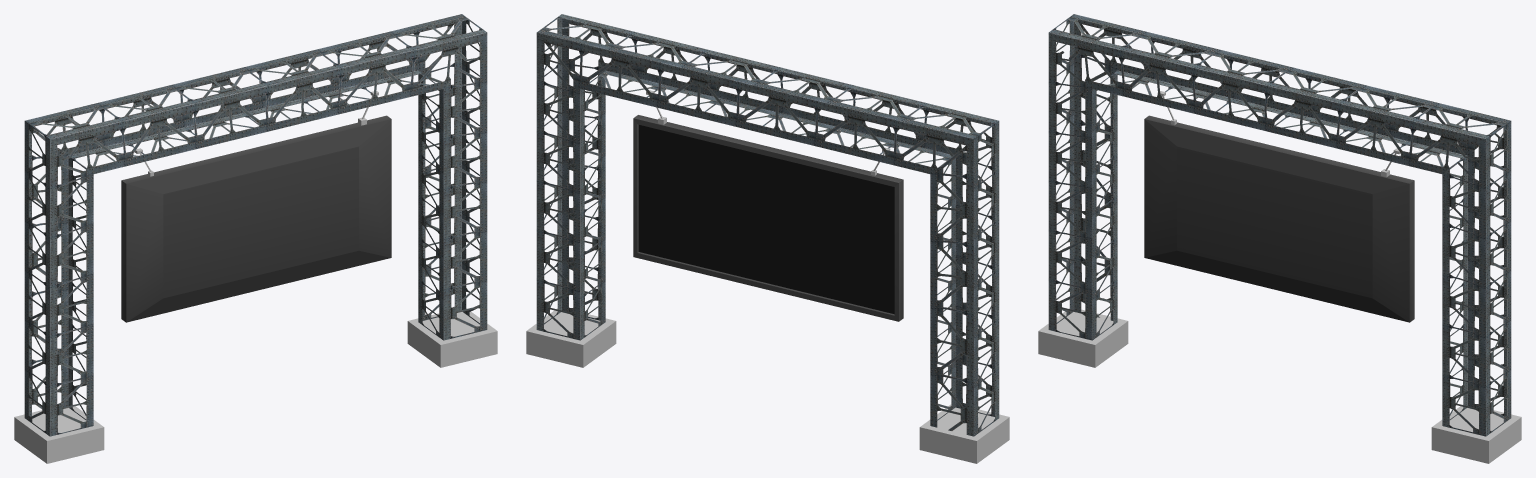
The model's file is Big-Screen-01.fbx.
The picture shows the model from 3 angles, left to right: view 1: azimuth 30°, elevation 25°; view 2: azimuth 150°, elevation 25°; view 3: azimuth 330°, elevation 25°; orthographic projection.
Parts seen in each view (by area): view 1: Metal_Extructure; view 2: Metal_Extructure, Screen; view 3: Metal_Extructure.
Boxes of the visible parts, left/top/right/bottom form: Metal_Extructure: left=14, top=14, right=497, bottom=463; Metal_Extructure: left=526, top=14, right=1009, bottom=463; Screen: left=638, top=125, right=894, bottom=314; Metal_Extructure: left=1038, top=14, right=1521, bottom=463.
Size of the model in its own units: 2061 by 1400 by 261.
